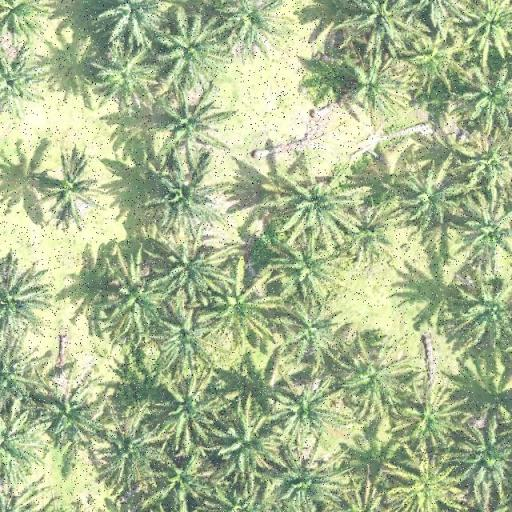Ganoderma: (345, 63, 394, 110), (44, 169, 92, 215), (398, 464, 448, 506), (408, 393, 452, 434)
